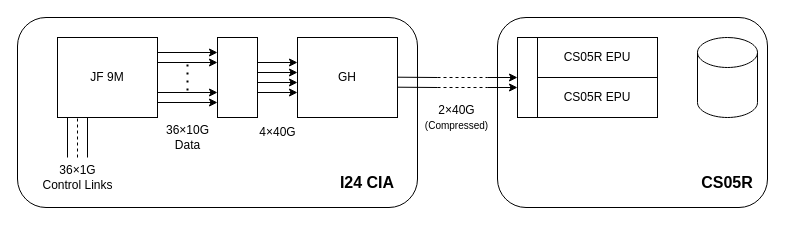
Some shapes in this 785 by 225 pixel diagram are drawn without their labels. Here are the shapes that lost their labels. From the top down, the centre of each, then its label:
the point at 237,77: 100G Switch
the point at 727,77: GPFS
